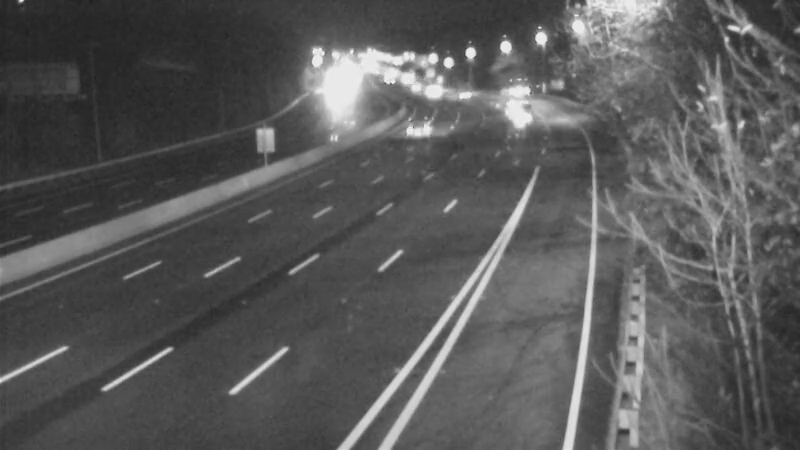vehicle: (407, 64, 457, 114), (444, 73, 494, 123), (494, 70, 544, 120), (503, 82, 553, 132), (394, 105, 444, 155)
